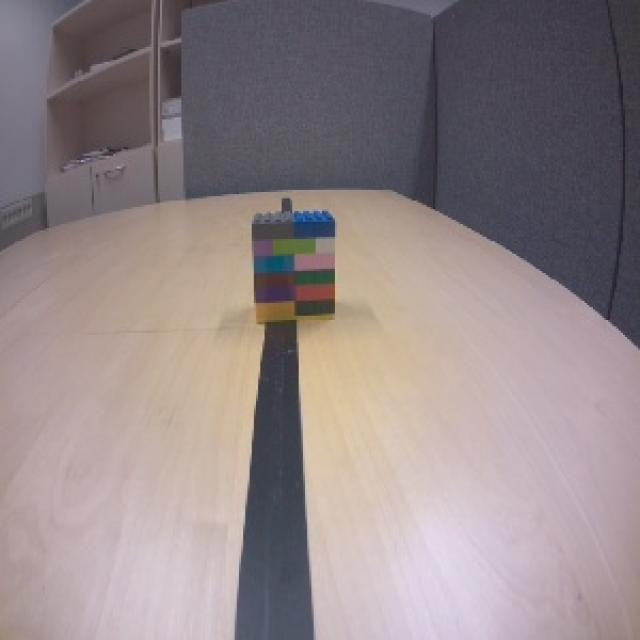obstacle: (247, 208, 339, 324)
